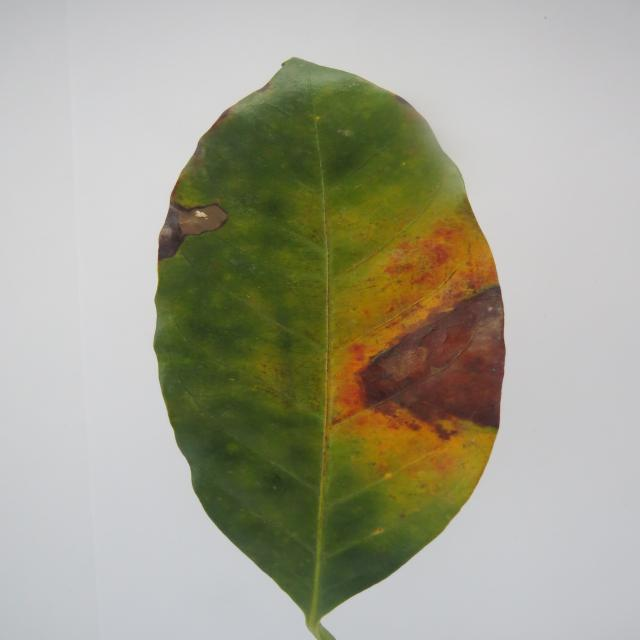DeficienciaNutricional-Fosforo: (155, 59, 505, 640)
